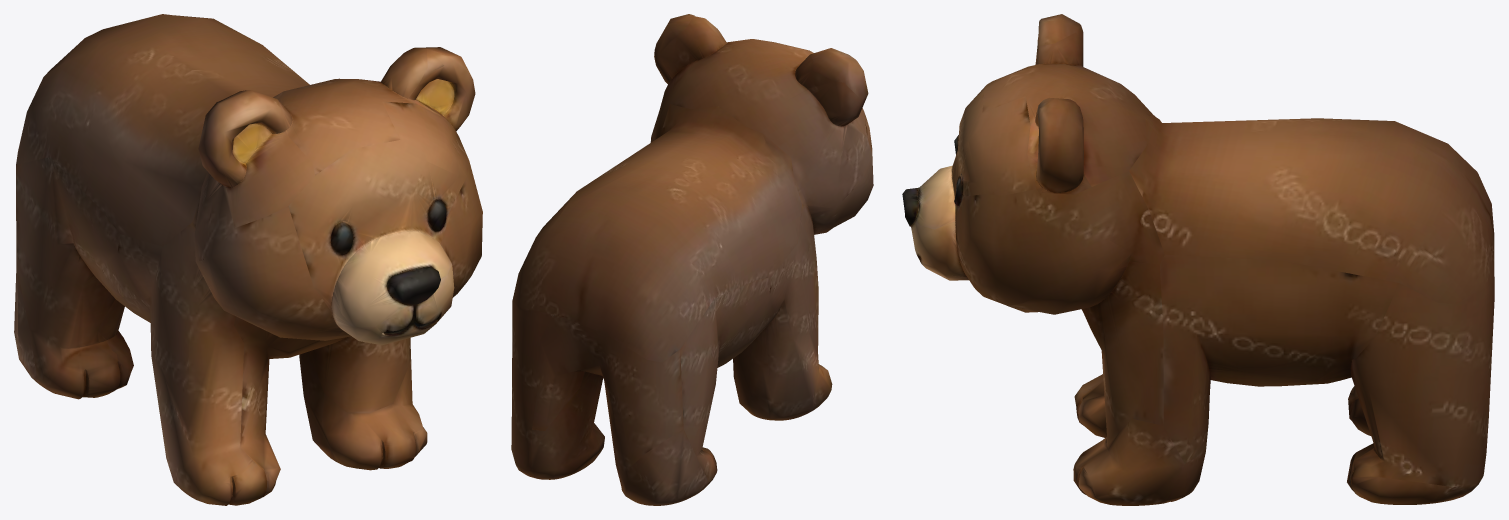
Rendered from bear_pbr.glb.
3 views of the same model, side by side, from view 1: azimuth 30°, elevation 25°; view 2: azimuth 150°, elevation 25°; view 3: azimuth 270°, elevation 25° (orthographic). The views are drawn at different scales.
Parts seen in each view (by area): view 1: model; view 2: model; view 3: model.
Part boxes in pixels (x1=…): model: x1=14, y1=14, x2=482, y2=505; model: x1=511, y1=14, x2=873, y2=505; model: x1=902, y1=14, x2=1494, y2=505.
Bounding box in the file's own units: 0.8757 × 1.34 × 1.81.
Materials: 1 (1 with a texture image).
